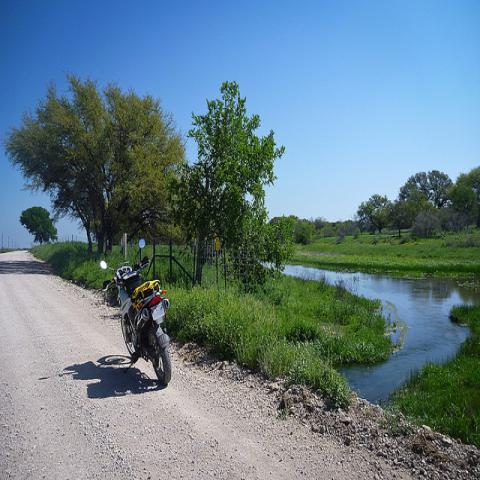motorcycle: (118, 257, 173, 386)
